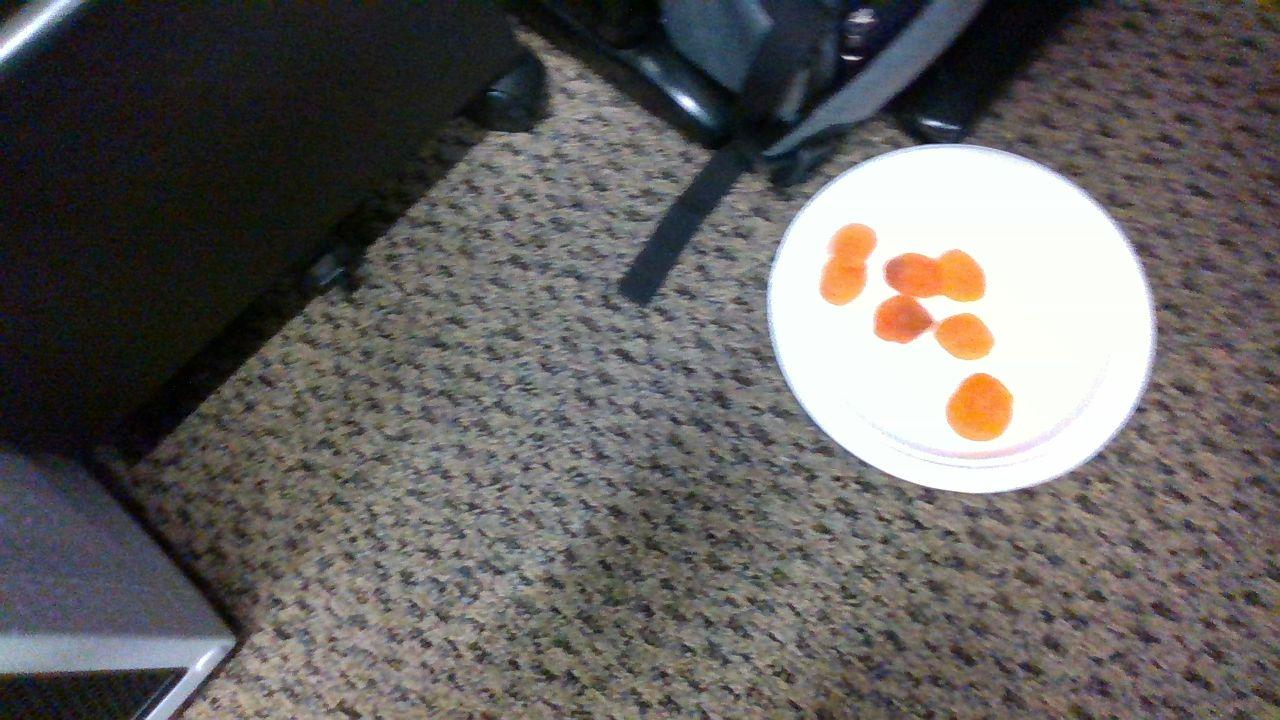apricot: (949, 373, 1012, 441), (936, 250, 987, 301), (939, 314, 994, 361), (876, 297, 932, 343), (887, 252, 937, 294), (822, 259, 867, 305), (829, 222, 878, 262)
plate: (769, 145, 1153, 492)
